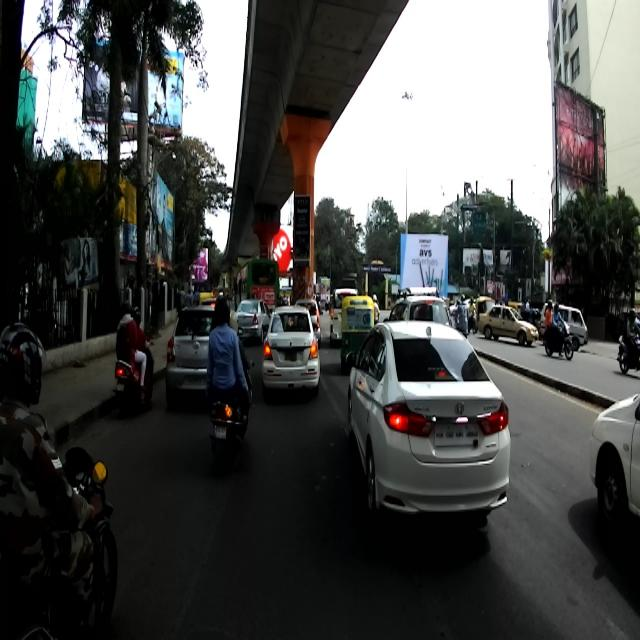Car_Honda: (345, 319, 510, 521)
Car_Hyundai: (474, 301, 538, 346)
Car_Mahindra: (329, 287, 357, 348)
Car_Maruti-Suzuki: (261, 305, 321, 400), (383, 284, 456, 324), (539, 299, 590, 347)
Car_Toyota: (164, 304, 221, 409), (233, 297, 272, 340)
autorickshaw: (340, 294, 374, 374)
motorcycle_Hero: (0, 445, 119, 639)
scooter: (209, 361, 255, 471), (112, 341, 154, 418)
